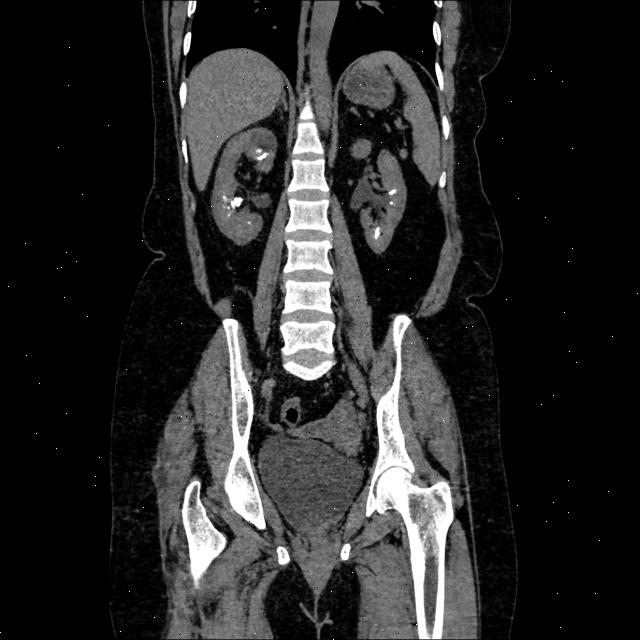kidneystone: (255, 151, 269, 161), (230, 198, 242, 208), (374, 227, 381, 238), (389, 188, 398, 194), (255, 148, 261, 152), (222, 194, 226, 199), (389, 201, 391, 204)
